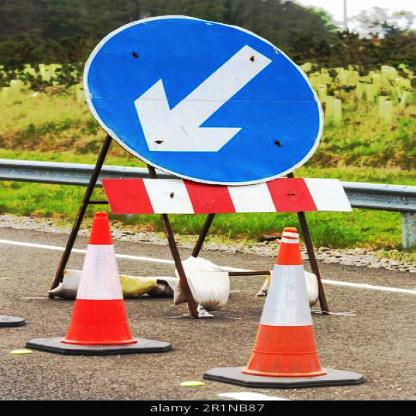Keep left: (89, 10, 326, 178)
